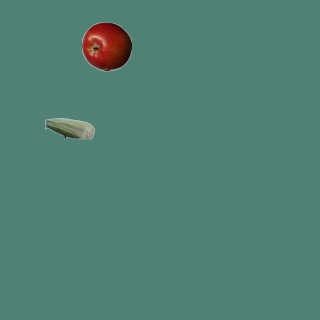Apple Braeburn: (81, 21, 131, 71)
Corn Husk: (44, 103, 94, 153)
